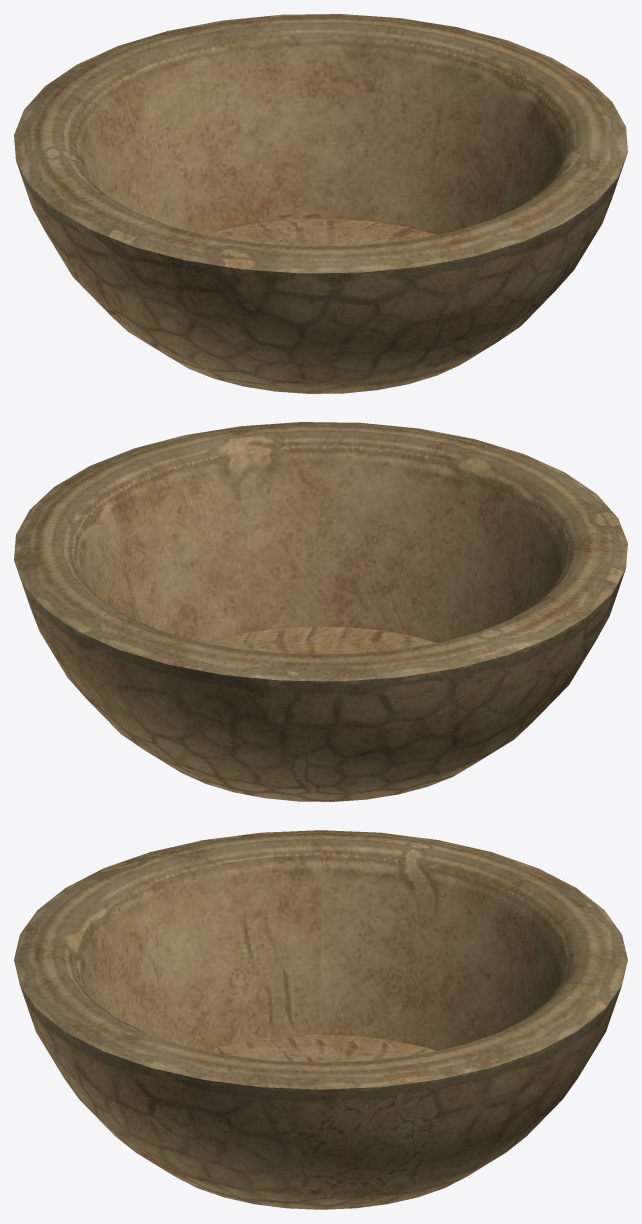
Rendered from obj_stylised_bowl_4f6e6b.glb.
3 renders of one model, top to bottom at view 1: azimuth 30°, elevation 25°; view 2: azimuth 150°, elevation 25°; view 3: azimuth 270°, elevation 25°, orthographic.
Parts seen in each view (by area): view 1: obj_stylised_bowl_4f6e6b; view 2: obj_stylised_bowl_4f6e6b; view 3: obj_stylised_bowl_4f6e6b.
Part boxes in pixels (left/top/right/bottom): obj_stylised_bowl_4f6e6b: left=14, top=14, right=627, bottom=393; obj_stylised_bowl_4f6e6b: left=14, top=422, right=627, bottom=801; obj_stylised_bowl_4f6e6b: left=14, top=830, right=627, bottom=1209.
Bounding box in the file's own units: 0.2 × 0.0662 × 0.2.
Materials: 1 (1 with a texture image).
